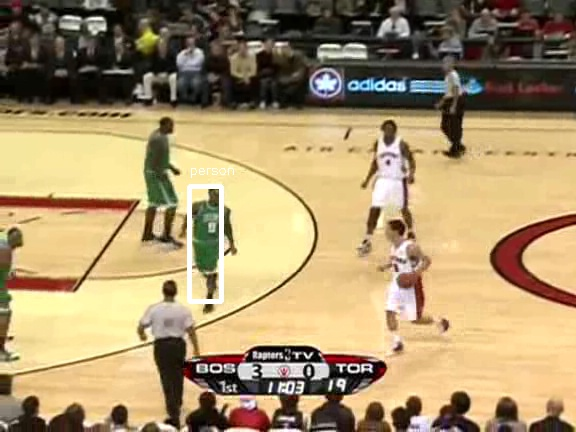person: (192, 199, 226, 280), (191, 199, 225, 280), (193, 199, 227, 280), (192, 198, 226, 279), (192, 200, 226, 281)
target_negative: (176, 9, 557, 210), (319, 187, 570, 384), (97, 297, 405, 368), (332, 342, 550, 419), (497, 318, 544, 392), (560, 140, 564, 153)
